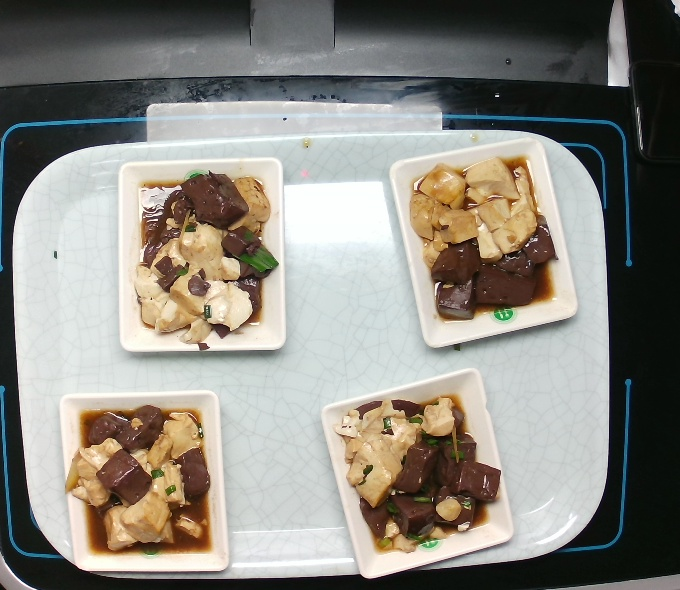wcq-DouFuMiuXue: (136, 164, 275, 349), (337, 386, 490, 553), (411, 153, 553, 317), (79, 406, 214, 565)
